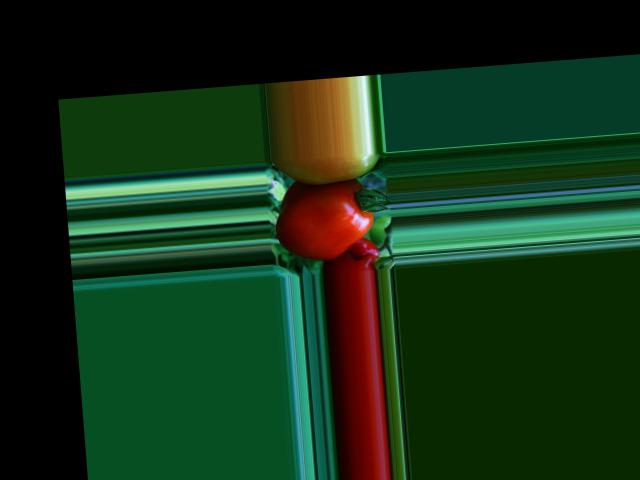tomato: (273, 179, 376, 263)
